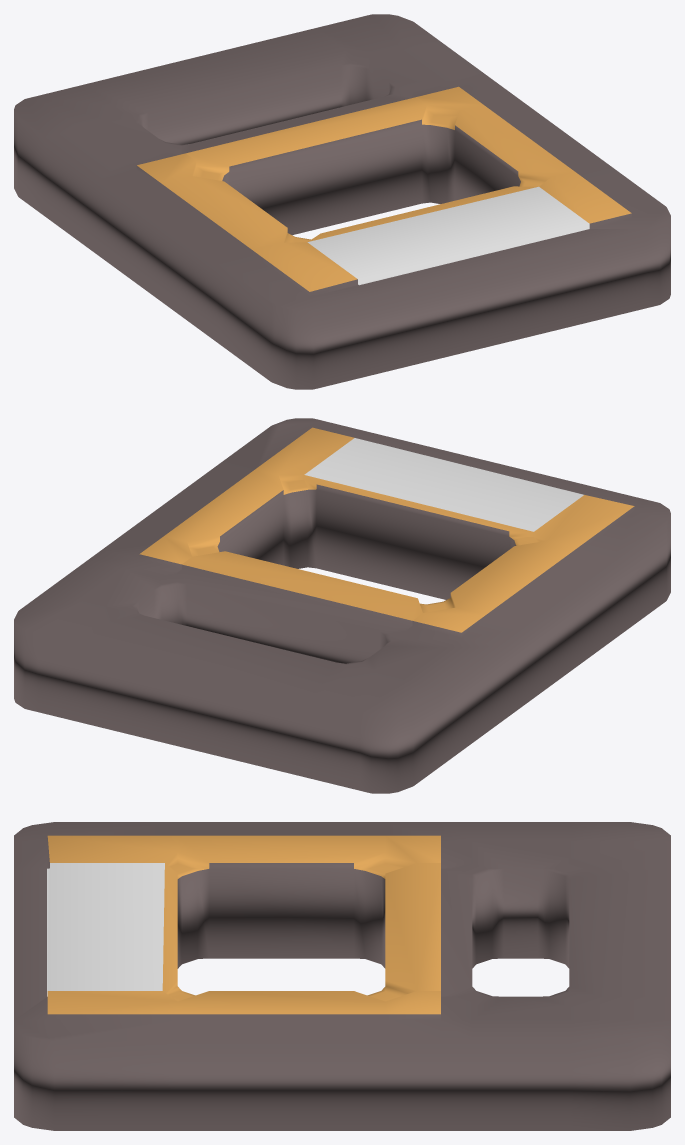
Rendered from sdCard.glb.
The picture shows the model from 3 angles, top to bottom: view 1: azimuth 30°, elevation 25°; view 2: azimuth 150°, elevation 25°; view 3: azimuth 270°, elevation 25°; orthographic projection. The views are drawn at different scales.
Visible parts, largest first — view 1: Cube.007; view 2: Cube.007; view 3: Cube.007.
Boxes of the visible parts, x1,y1,x2,y2 form: Cube.007: (14, 14, 670, 389); Cube.007: (14, 418, 670, 793); Cube.007: (14, 822, 670, 1130).
Bounding box in the file's own units: 1.24 × 0.2524 × 1.57.
